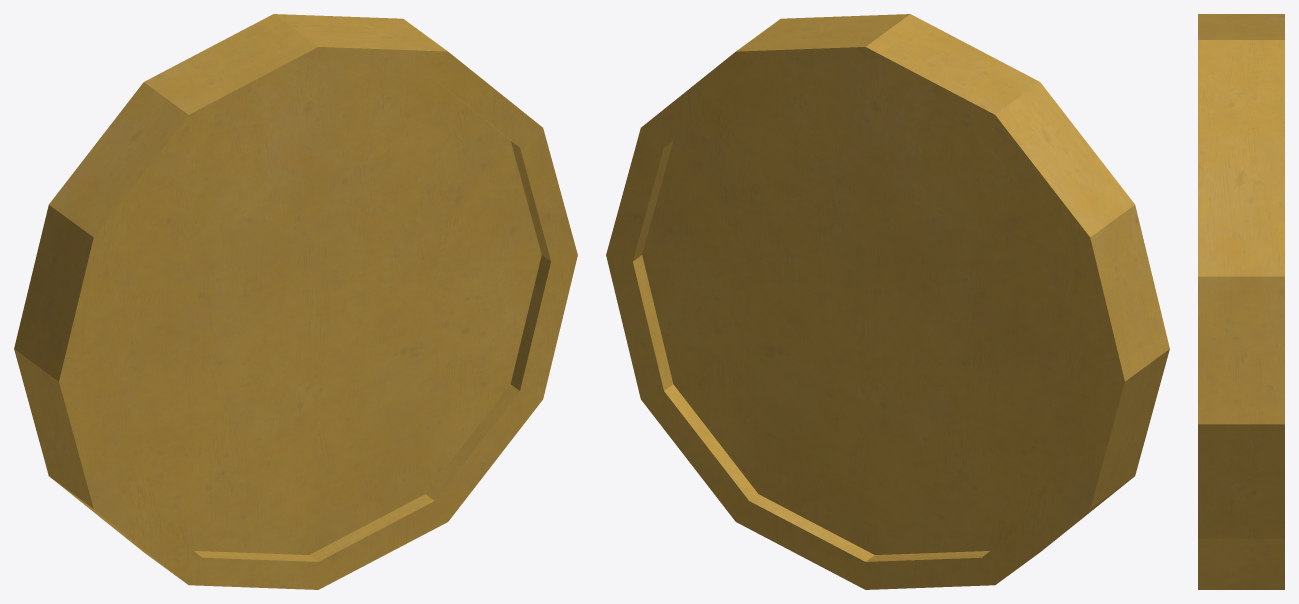
The model's file is coin.fbx.
The picture shows the model from 3 angles, left to right: view 1: azimuth 30°, elevation 25°; view 2: azimuth 150°, elevation 25°; view 3: azimuth 270°, elevation 25°; orthographic projection. The views are drawn at different scales.
Visible parts, largest first — view 1: Coin; view 2: Coin; view 3: Coin.
Part boxes in pixels (<box>): Coin: <box>14,14,577,589</box>; Coin: <box>606,14,1169,589</box>; Coin: <box>1198,14,1284,589</box>.
Bounding box in the file's own units: 200 × 200 × 30.
